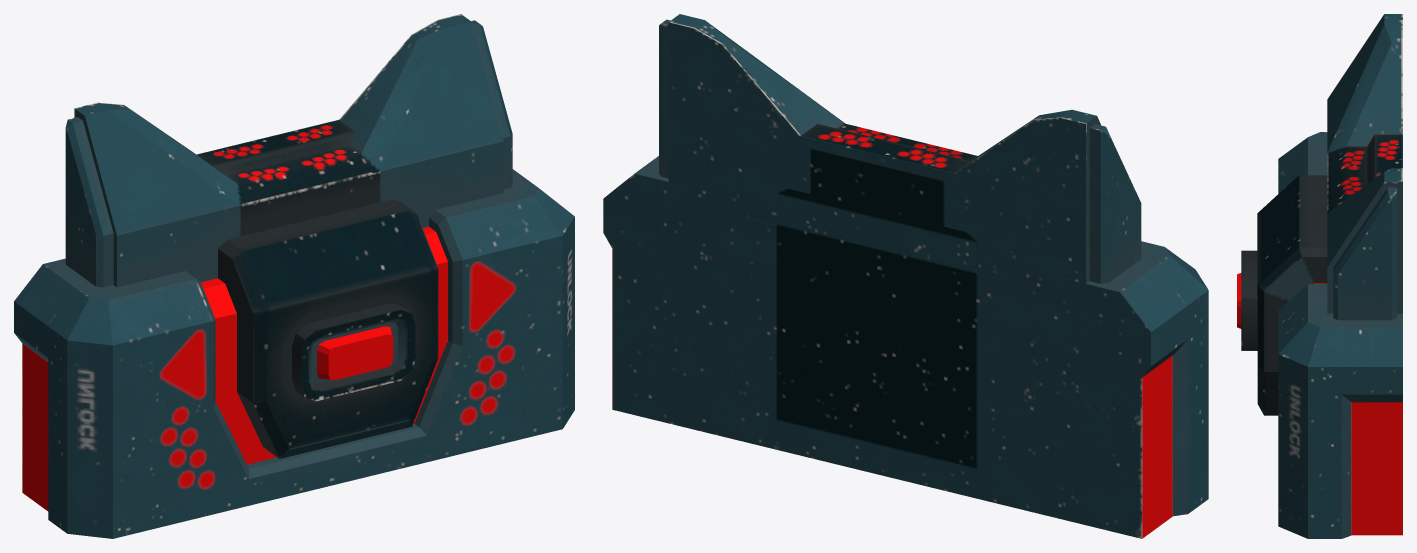
Rendered from cocon_base.glb.
3 views of the same model, side by side, from view 1: azimuth 30°, elevation 25°; view 2: azimuth 150°, elevation 25°; view 3: azimuth 270°, elevation 25° (orthographic). The views are drawn at different scales.
Parts seen in each view (by area): view 1: Foot_Base_Capsoline_001.001; view 2: Foot_Base_Capsoline_001.001; view 3: Foot_Base_Capsoline_001.001.
Boxes of the visible parts, x1,y1,x2,y2 form: Foot_Base_Capsoline_001.001: [14, 14, 574, 538]; Foot_Base_Capsoline_001.001: [603, 14, 1208, 538]; Foot_Base_Capsoline_001.001: [1237, 14, 1402, 538].
Size of what is drawn, in the model's own units: 2.94 by 2.06 by 0.9348.
1 material, 1 textured.
